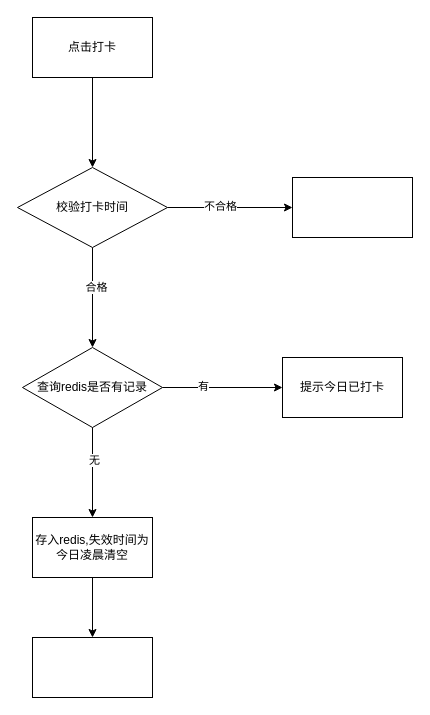
The diagram is 430 pixels wide and 715 high, and some of its shapes have lost their labels. The box of each missing label's shape, as (x1, y1, x2, y2) in pixels:
将打卡记录存入mysql: (32, 636, 152, 698)
提示打卡超时: (292, 176, 412, 238)
